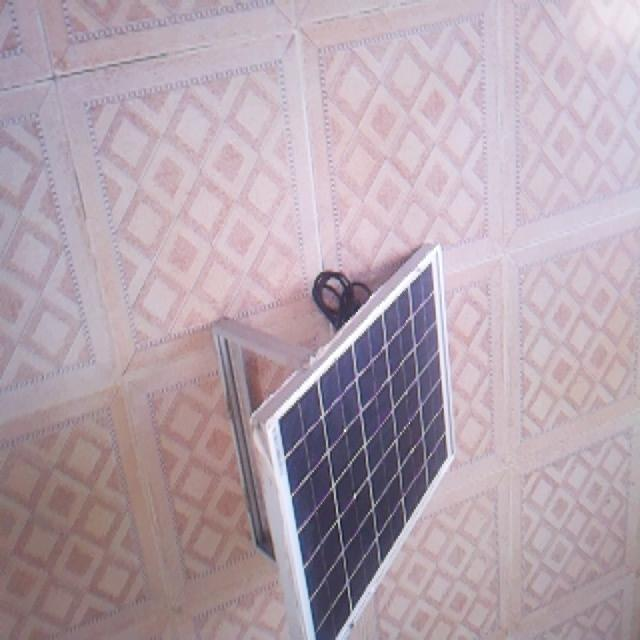Normal Solar Panel: (254, 250, 454, 637)
